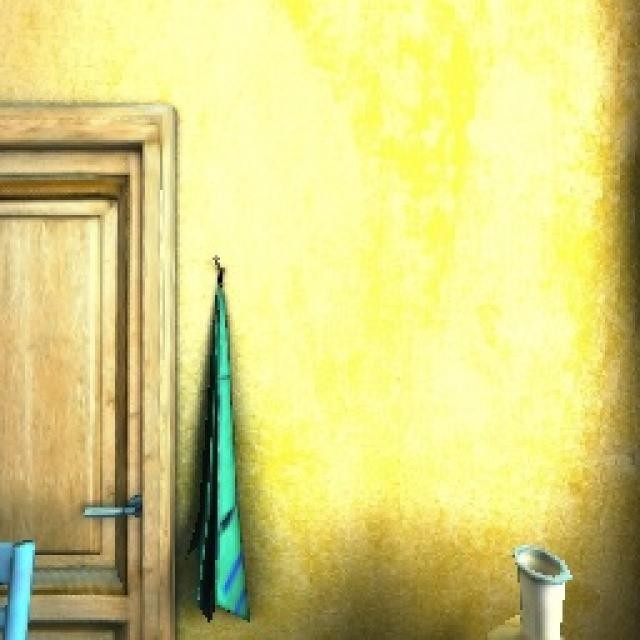door: (0, 88, 190, 640)
